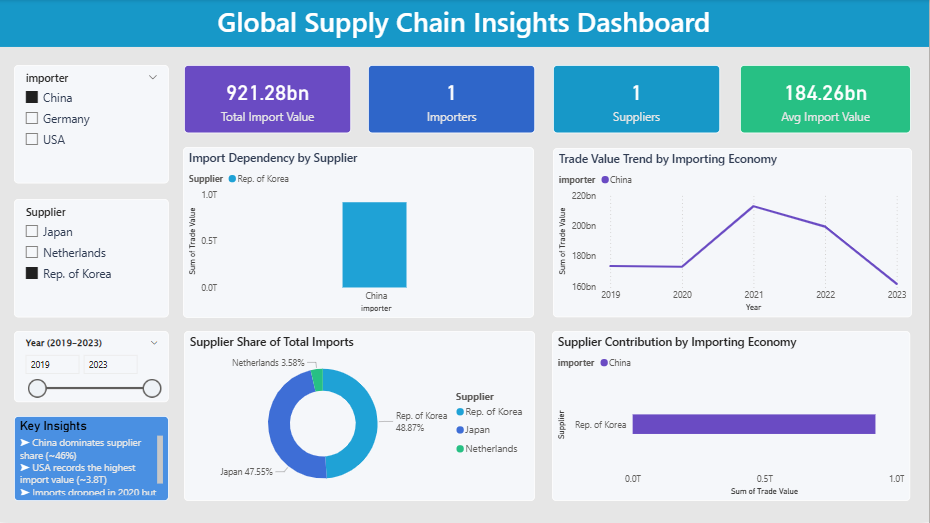

Layout of this report page (visuals, bound fields, positions):
{"tool":"powerbi","page":{"name":"Page 1","canvas":[1280,720],"ordinal":0},"visuals":[{"type":"clusteredBarChart","title":"Supplier Contribution by Importing Economy","fields":{"Category":["Sheet1.Supplier"],"Y":["Sum(Sheet1.Trade Value)"],"Series":["Sheet1.importer"]},"box":[761.1,456.9,492.7,234],"z":0},{"type":"lineChart","title":"Trade Value Trend by Importing Economy","fields":{"Category":["Sheet1.Year"],"Y":["Sum(Sheet1.Trade Value)"],"Series":["Sheet1.importer"]},"box":[762.5,205.1,494.1,232.6],"z":1000},{"type":"donutChart","title":"Supplier Share of Total Imports","fields":{"Category":["Sheet1.Supplier"],"Y":["Sum(Sheet1.Trade Value)"]},"box":[254.6,456.9,483.1,234],"z":2000},{"type":"lineStackedColumnComboChart","title":"Import Dependency by Supplier","fields":{"Category":["Sheet1.importer"],"Y":["Sum(Sheet1.Trade Value)"],"Series":["Sheet1.Supplier"]},"box":[253.2,203.7,483.1,235.4],"z":3000},{"type":"slicer","fields":{"Values":["Sheet1.importer"]},"box":[21.2,91.2,212.5,162.5],"z":4000},{"type":"slicer","fields":{"Values":["Sheet1.Supplier"]},"box":[21.2,275,212.5,162.5],"z":5000},{"type":"slicer","fields":{"Values":["Sheet1.Year"]},"box":[20.6,456.9,213.3,97.7],"z":6000},{"type":"card","fields":{"Values":["Sum(Sheet1.Trade Value)"]},"box":[254.6,90.8,229.8,93.6],"z":7000},{"type":"card","fields":{"Values":["Sheet1.Avg Import Value"]},"box":[1019.9,90.8,235.4,93.6],"z":8000},{"type":"card","fields":{"Values":["Sheet1.Suppliers"]},"box":[762.5,90.8,229.8,93.6],"z":9000},{"type":"card","fields":{"Values":["Sheet1.Importers"]},"box":[507.9,90.8,229.8,93.6],"z":10000},{"type":"textbox","box":[0,0,1280,66.1],"z":11000},{"type":"textbox","title":"Key Insights","box":[20.6,573.9,213.3,117],"z":12000}]}

Visuals, with their boxes in screenshot pixels (x1, y1, x2, y2), scaled from the page's 1280x720 canvas onto the 930x523 screenshot:
"Supplier Contribution by Importing Economy" clusteredBarChart: x1=553 y1=332 x2=911 y2=502
"Trade Value Trend by Importing Economy" lineChart: x1=554 y1=149 x2=913 y2=318
"Supplier Share of Total Imports" donutChart: x1=185 y1=332 x2=536 y2=502
"Import Dependency by Supplier" lineStackedColumnComboChart: x1=184 y1=148 x2=535 y2=319
slicer - Sheet1.importer: x1=15 y1=66 x2=170 y2=184
slicer - Sheet1.Supplier: x1=15 y1=200 x2=170 y2=318
slicer - Sheet1.Year: x1=15 y1=332 x2=170 y2=403
card - Sum(Sheet1.Trade Value): x1=185 y1=66 x2=352 y2=134
card - Sheet1.Avg Import Value: x1=741 y1=66 x2=912 y2=134
card - Sheet1.Suppliers: x1=554 y1=66 x2=721 y2=134
card - Sheet1.Importers: x1=369 y1=66 x2=536 y2=134
textbox: x1=0 y1=0 x2=929 y2=48
"Key Insights" textbox: x1=15 y1=417 x2=170 y2=502
